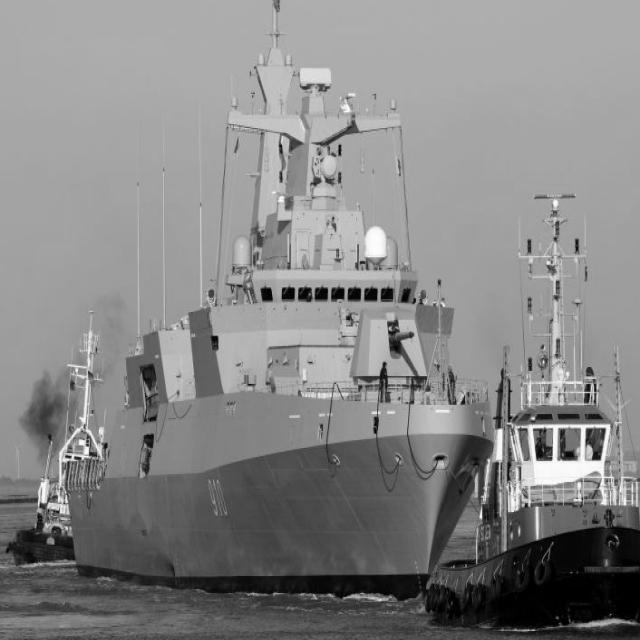Fragata: (63, 1, 502, 587)
